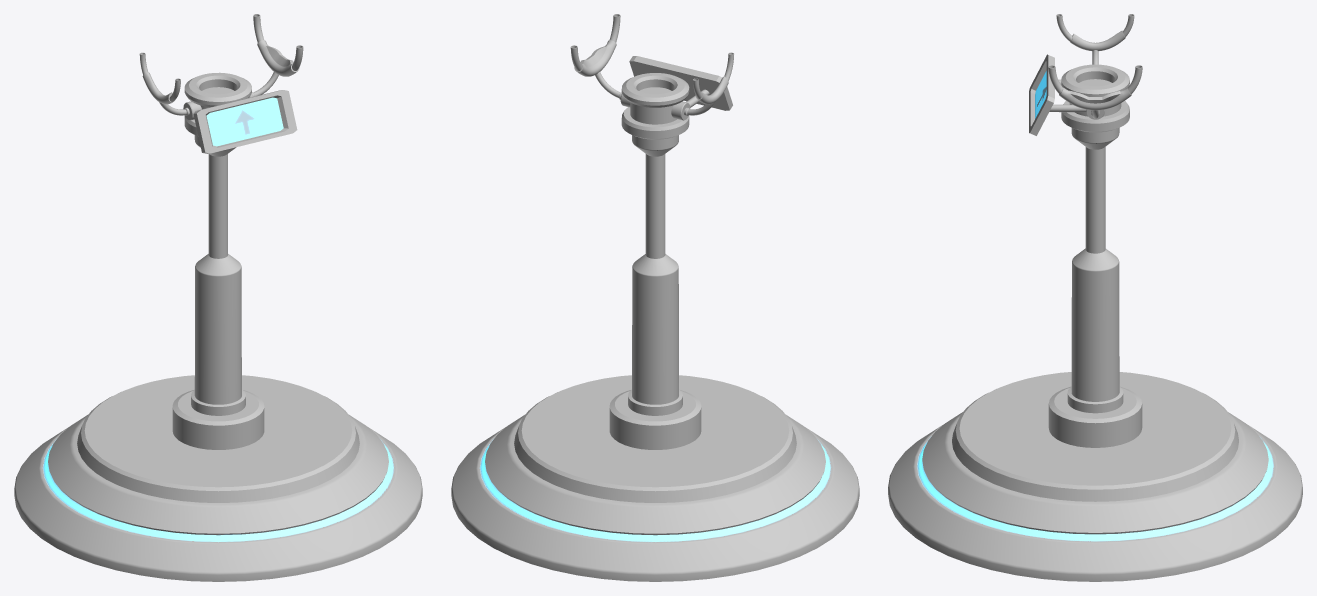
3 views of the same model, side by side, from view 1: azimuth 30°, elevation 25°; view 2: azimuth 150°, elevation 25°; view 3: azimuth 270°, elevation 25° (orthographic).
Visible parts, largest first — view 1: PortalGun_Pedestal_0; view 2: PortalGun_Pedestal_0; view 3: PortalGun_Pedestal_0.
Boxes of the visible parts, bbox=[...] form: PortalGun_Pedestal_0: bbox=[14, 14, 422, 581]; PortalGun_Pedestal_0: bbox=[451, 14, 859, 581]; PortalGun_Pedestal_0: bbox=[888, 14, 1302, 581].
Size of the model in its own units: 0.9949 by 1.21 by 0.9949.
